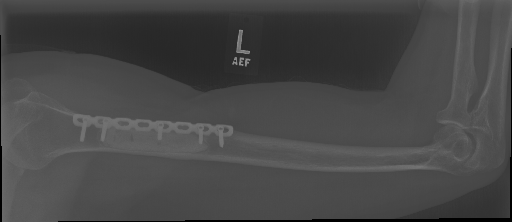implant: (73, 111, 111, 143), (195, 119, 234, 148), (150, 115, 171, 144)
